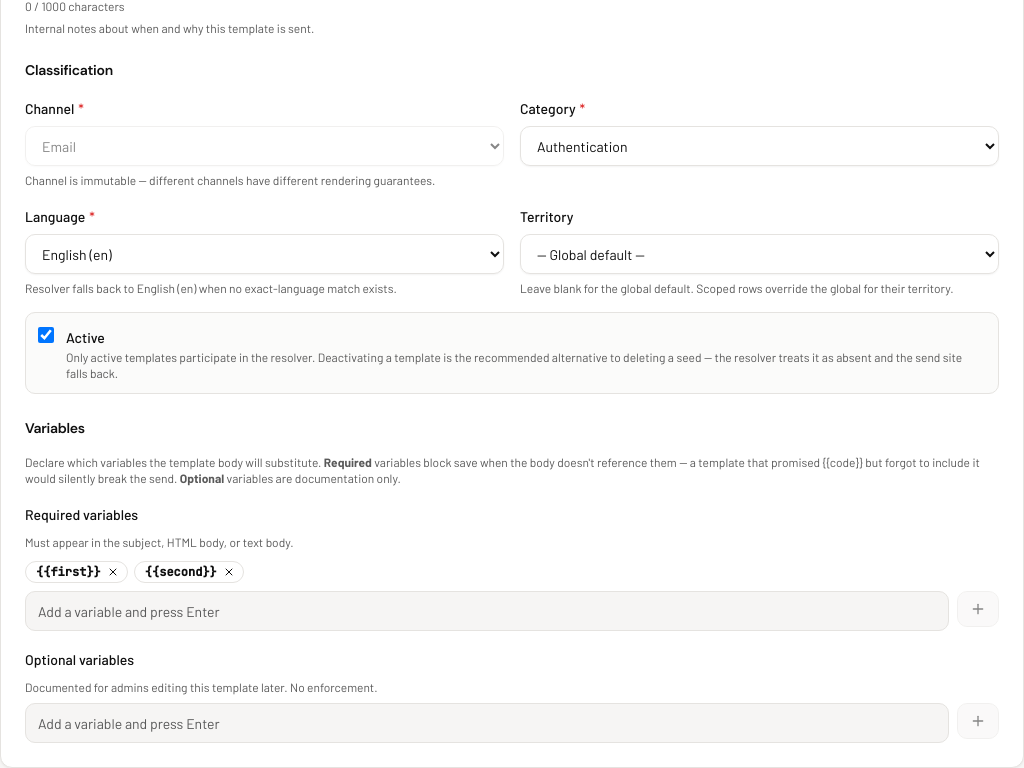
Test: variable chip editor › removes the last chip on empty Backspace
(page scrolled)
Click the field with placeholder "Add a variable and press Enter" at (487, 611), box x1=25 y1=591 x2=949 y2=631
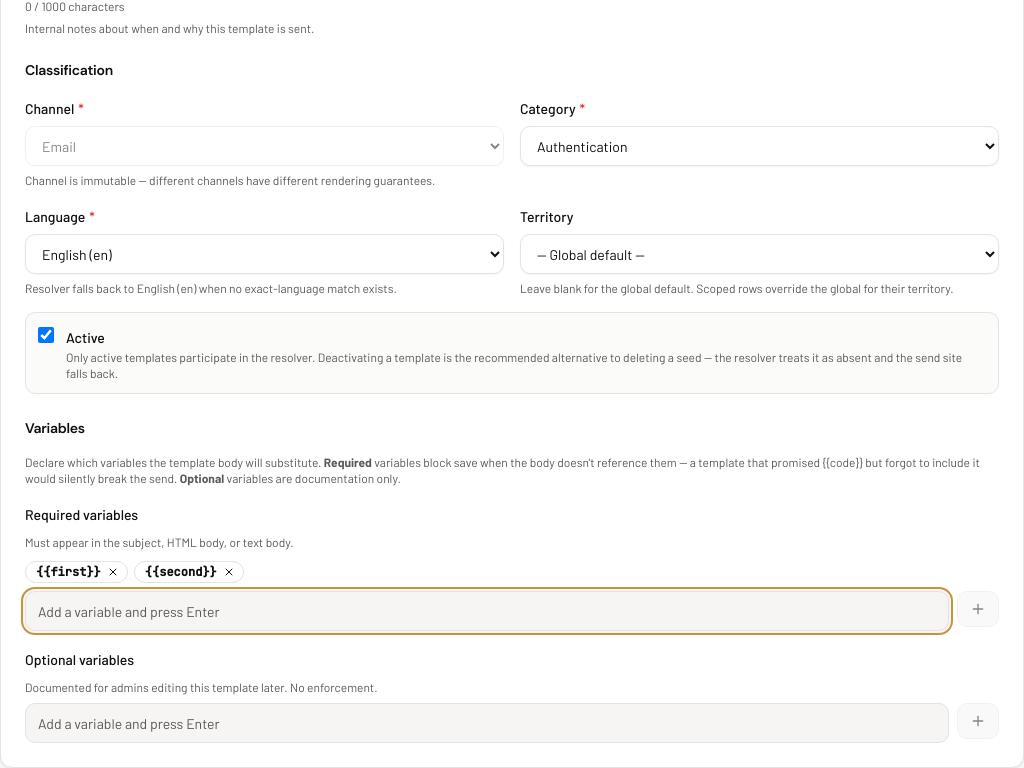
Press Backspace
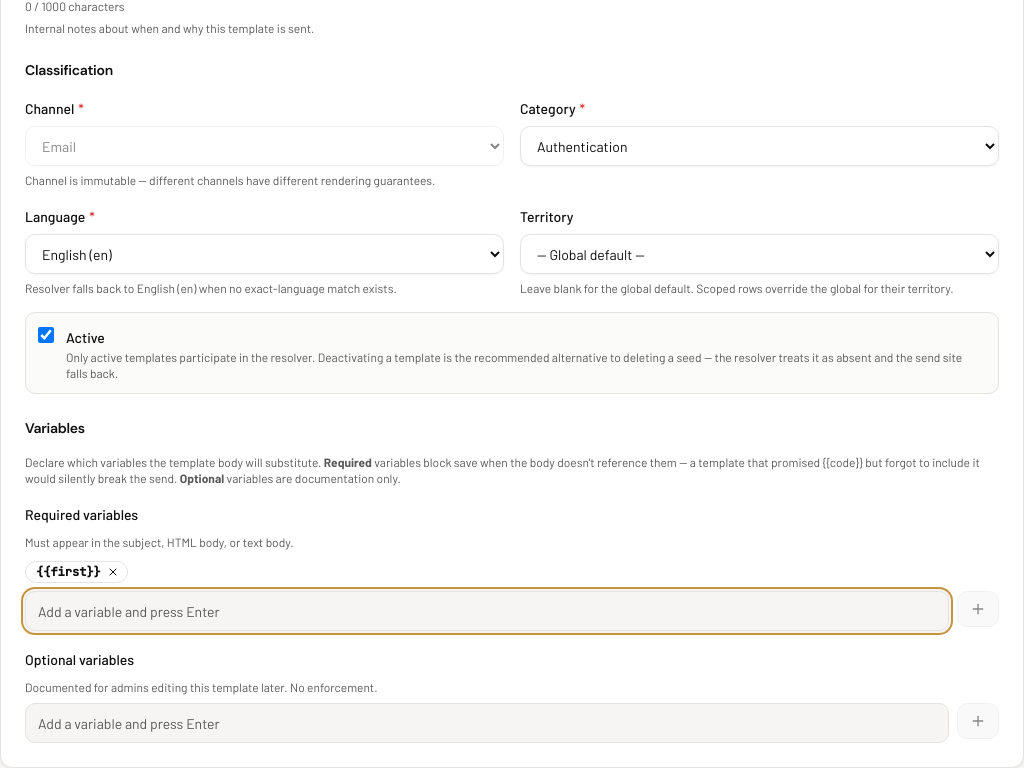
Expected: the text "{{first}}" is shown, x1=25 y1=561 x2=128 y2=583
Expected: the text "{{second}}" is gone
